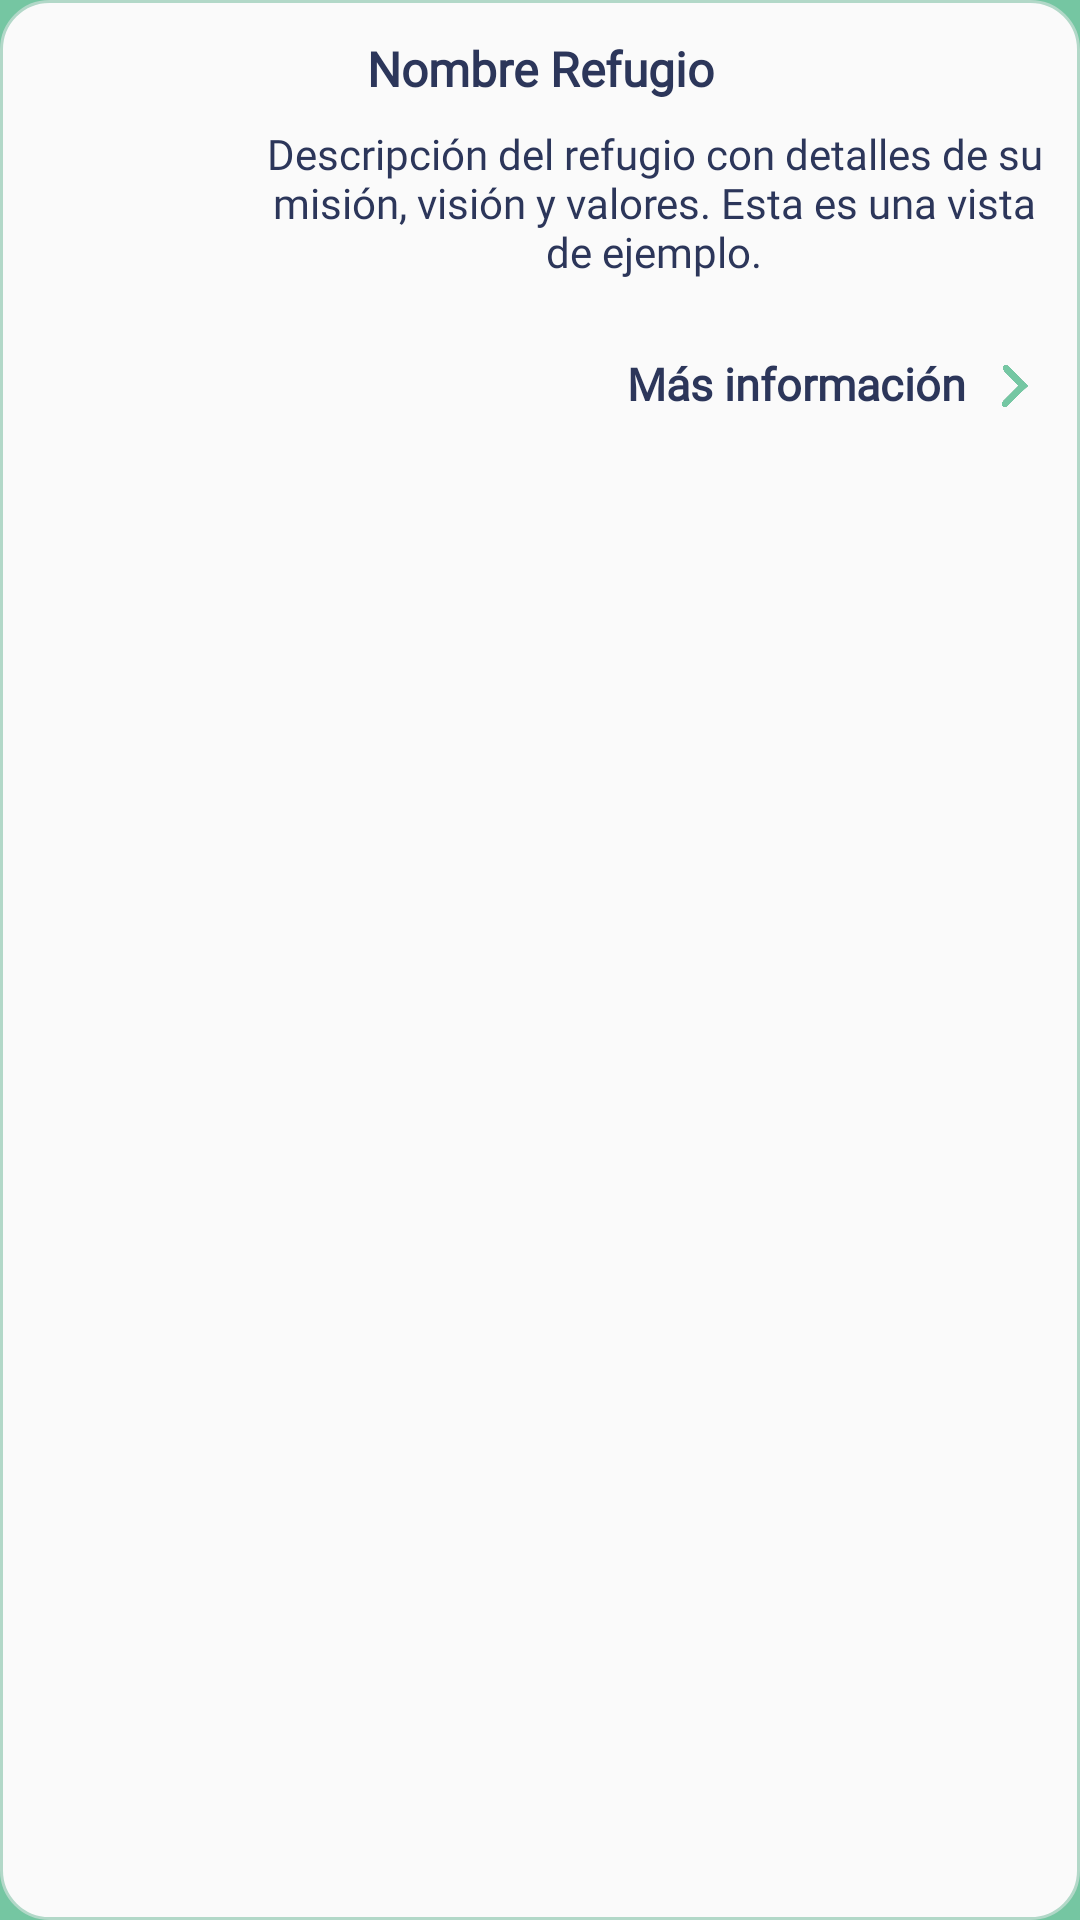

Icon bounding boxes for this 1080w x 1920h phone screenshot, format [x1=x1, y1=y1, x2=x2, y2=y2]:
Ver más: [x1=1002, y1=365, x2=1028, y2=407]
